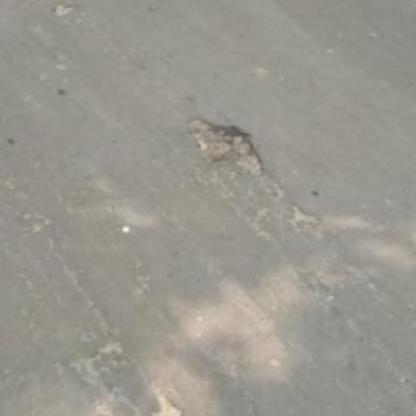pothole: (182, 112, 272, 179), (148, 391, 187, 416), (52, 0, 78, 18)
